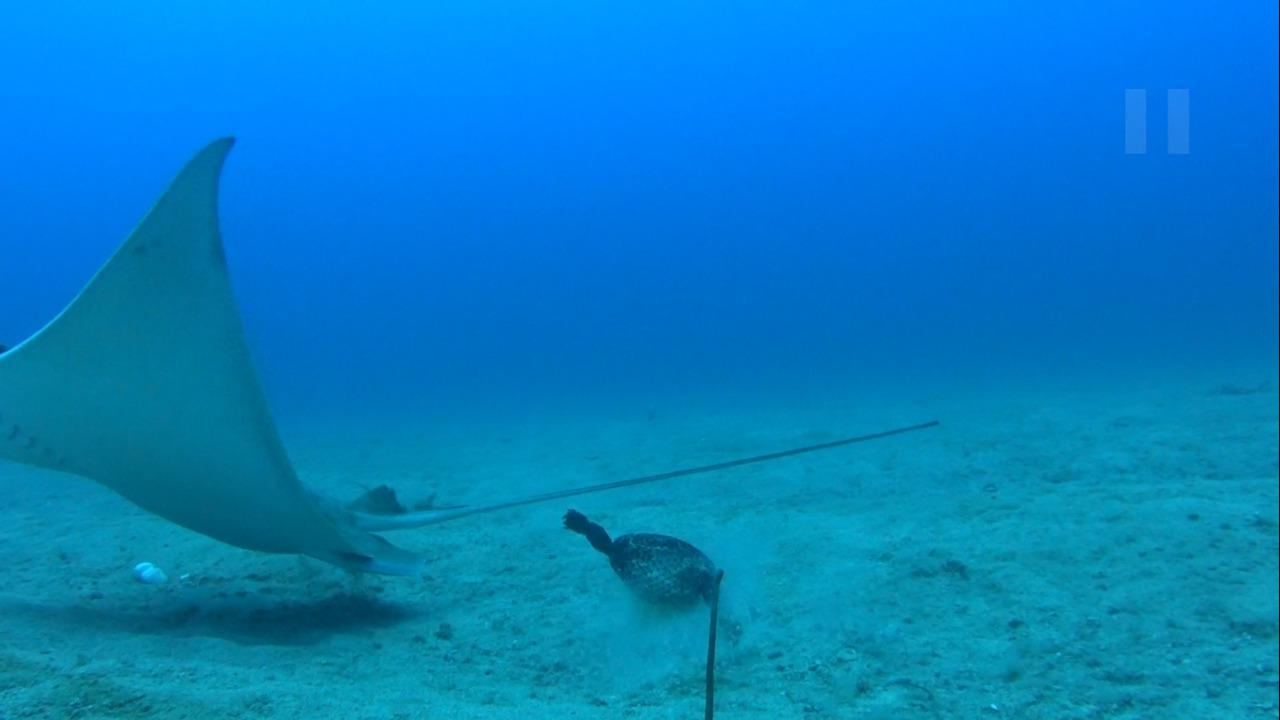myliobatis: (4, 133, 947, 578)
